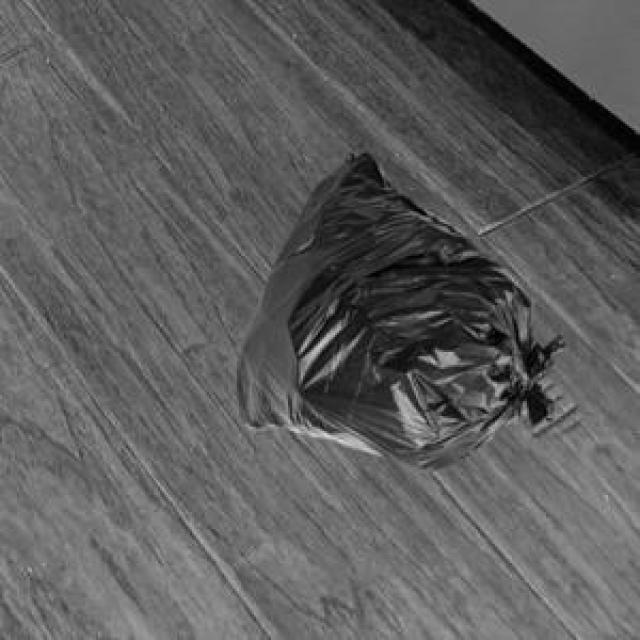miscellaneous trash: (233, 149, 561, 467)
